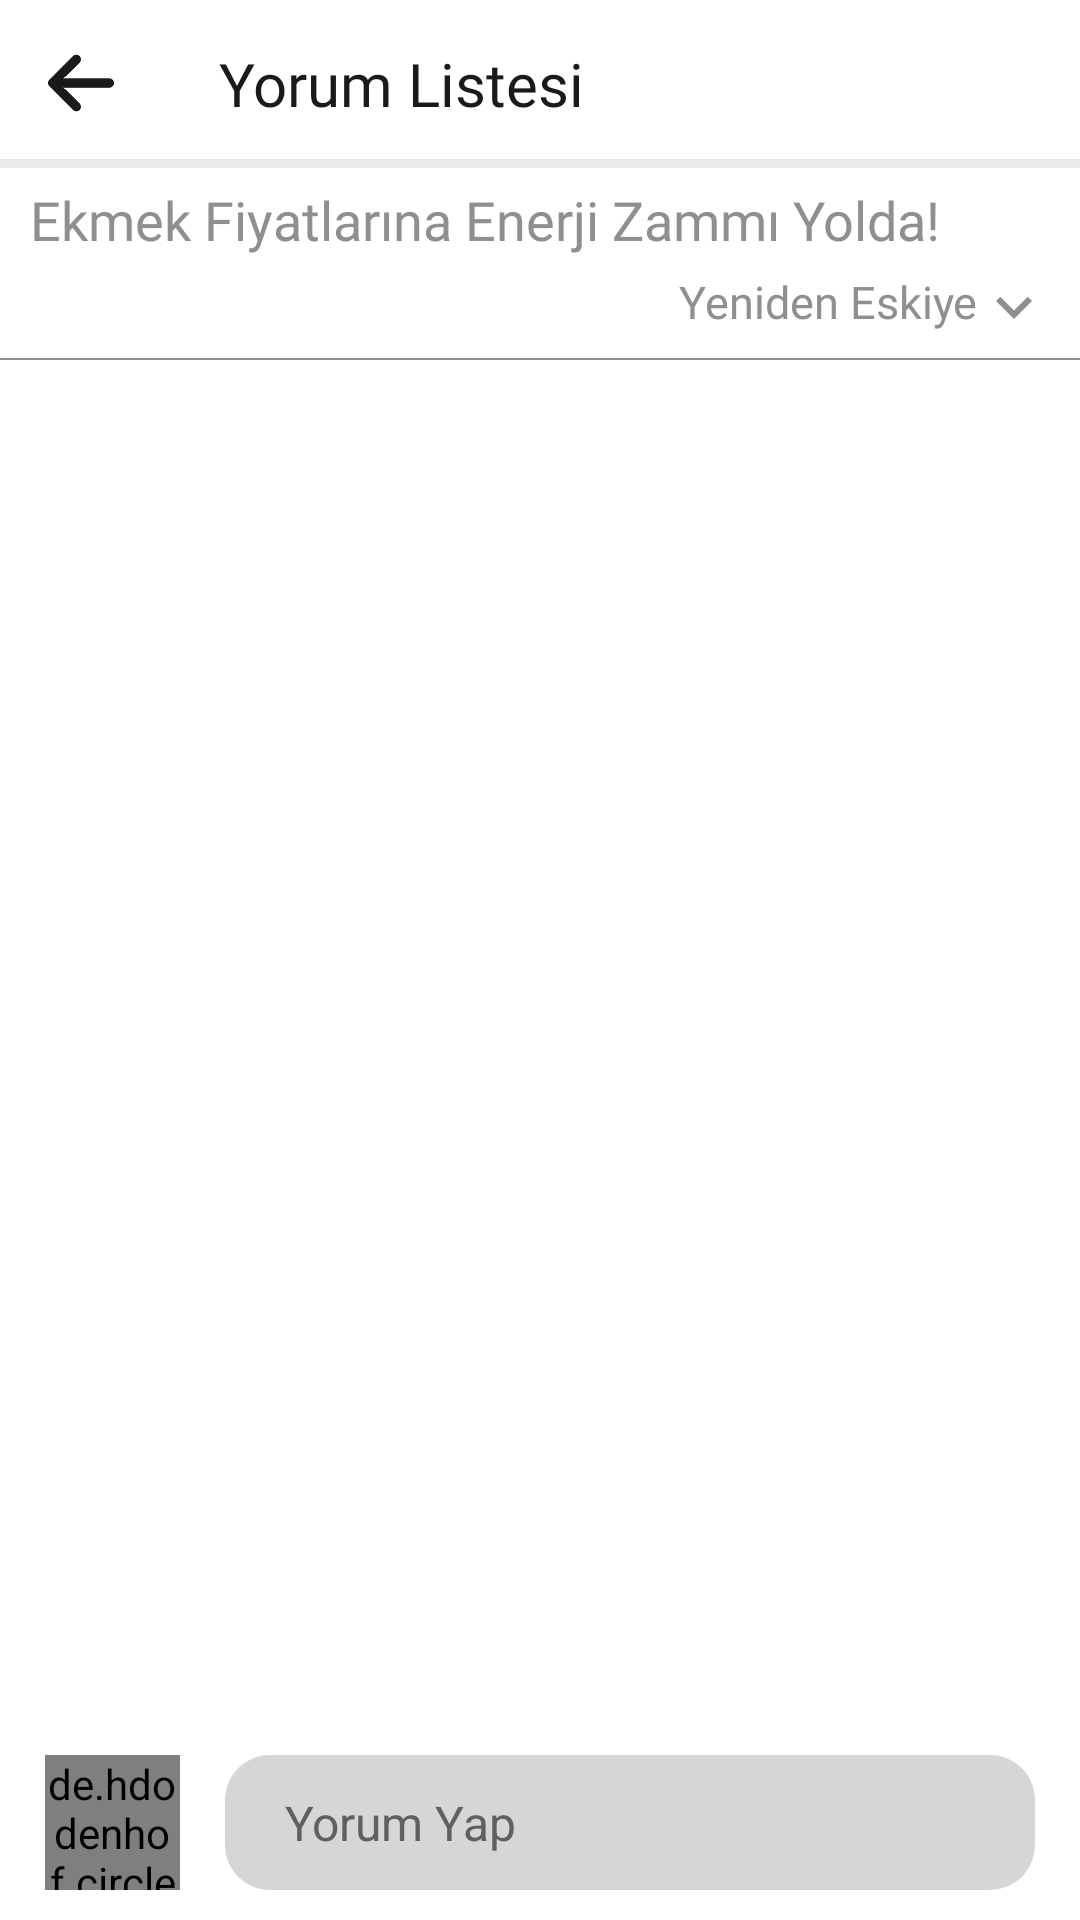

Icon click points for this 1080*1920 phone screenshot, format point (x, y):
arrow back: point (81, 83)
